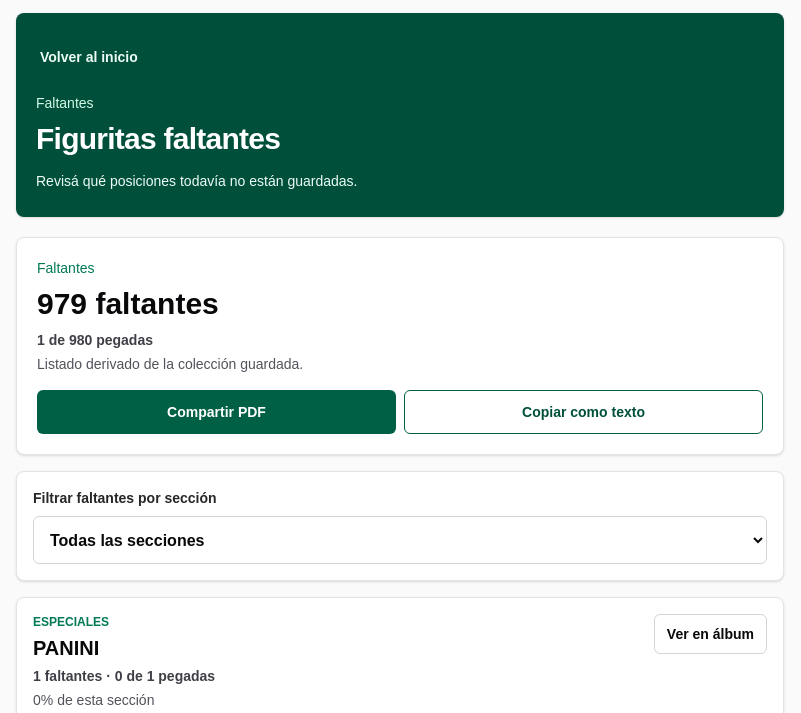
Test case: CollectionViews missing › filters missing positions by section without reloading
Check: the heading "979 faltantes" is shown, box [37,287,219,320]
Select "México" in the dropdown labelled "Filtrar faltantes por sección". click: (400,540)
box: [33,516,767,564]
(page scrolled)
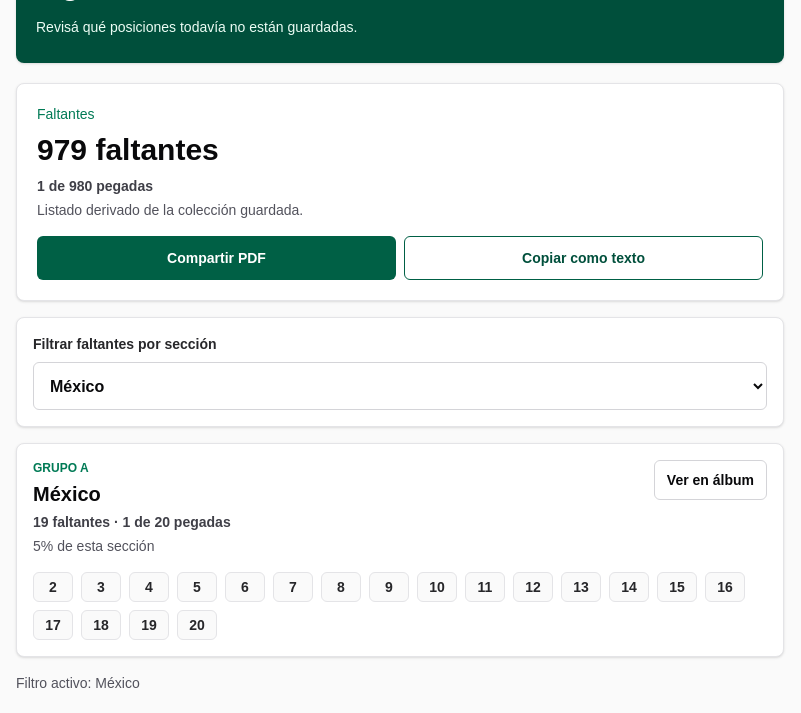
Check: the heading "México" is shown, box [33,483,101,505]
Check: the text "Filtro activo: México" is shown, box [16,675,140,691]
